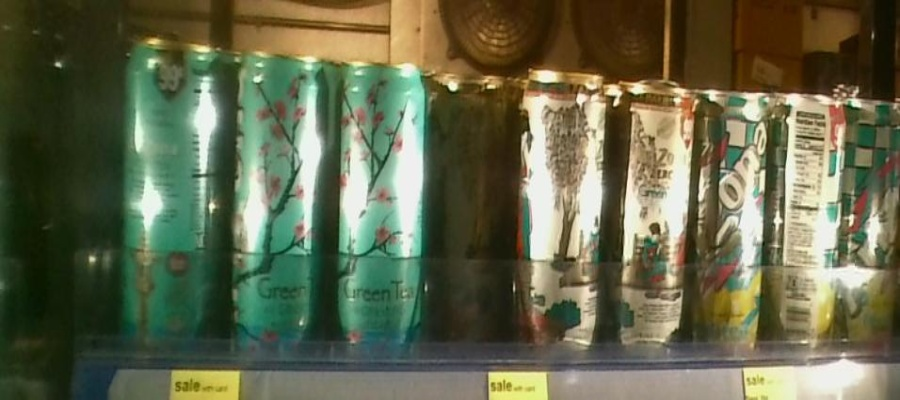bottle: (112, 13, 229, 355), (234, 39, 331, 365), (334, 21, 424, 365), (515, 44, 609, 357), (613, 48, 695, 359), (430, 49, 512, 350), (697, 62, 770, 364), (768, 66, 845, 350), (849, 72, 890, 354)
